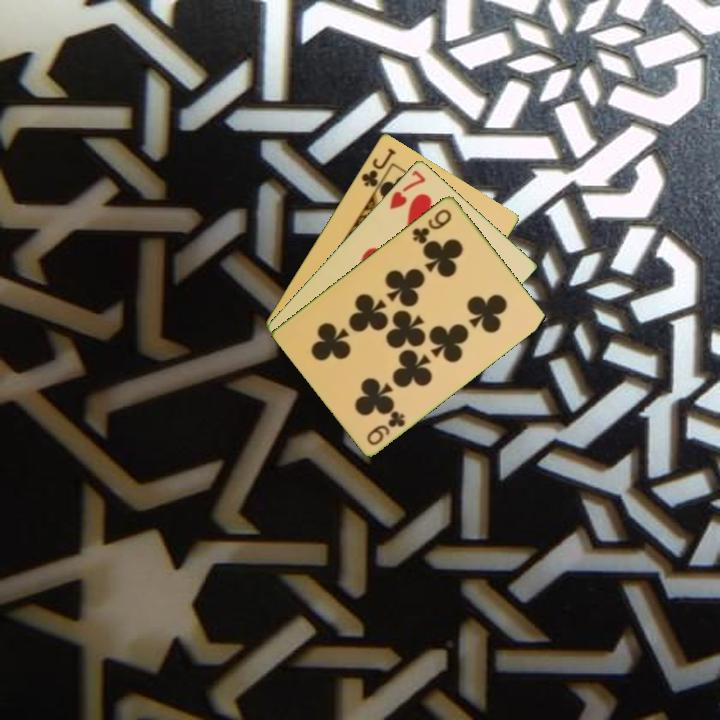7h: (385, 166, 429, 212)
9c: (408, 205, 455, 246), (363, 407, 408, 448)
Jc: (357, 144, 399, 190)
